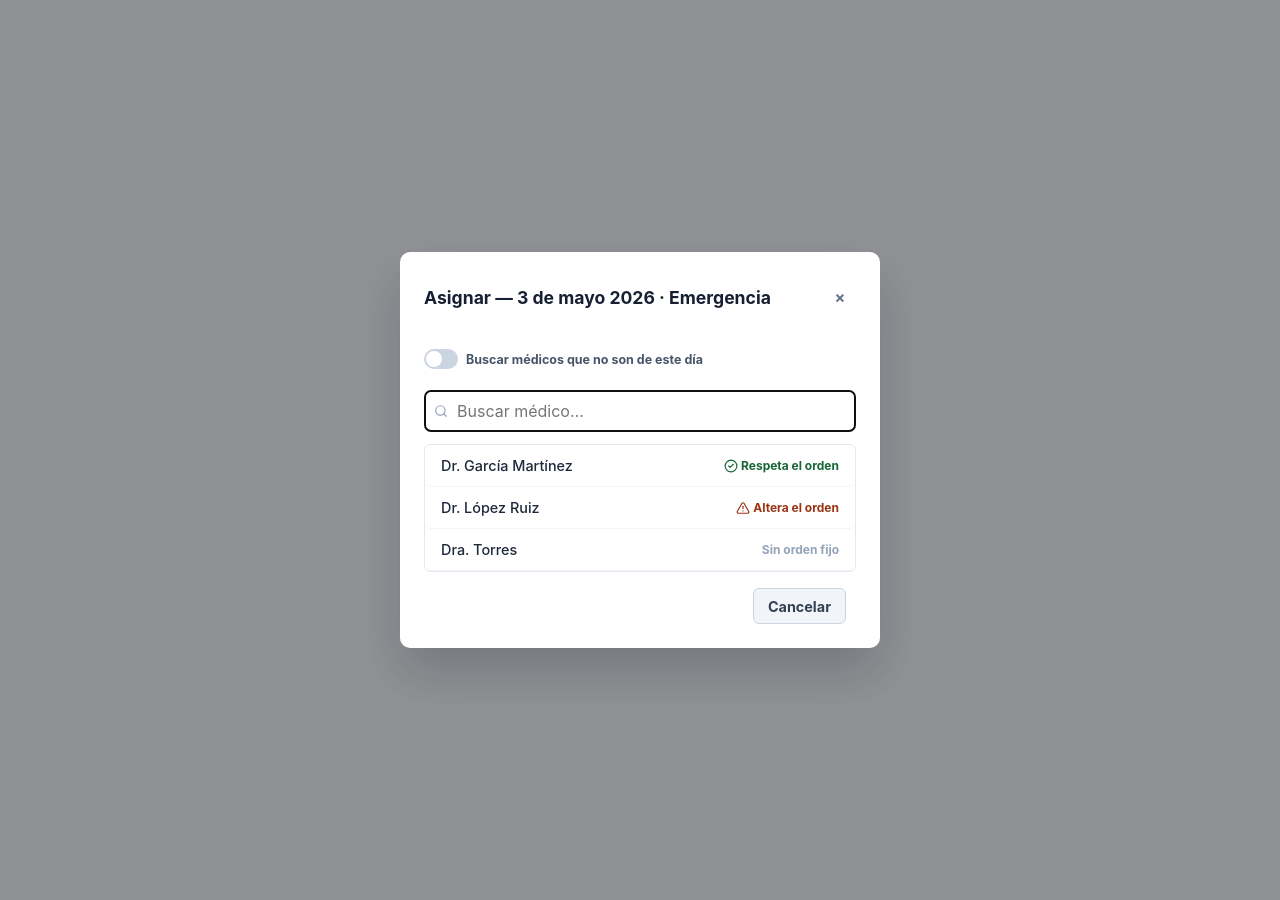
it: AssignDoctorModal › el interruptor de otros días recarga con strict=false y muestra fuera-de-día
Expected: the text "Dr. García Martínez" is shown, [441,457,573,474]
Click the switch labelled "Buscar médicos que no son de este día" at (564, 359), box [424,338,703,380]
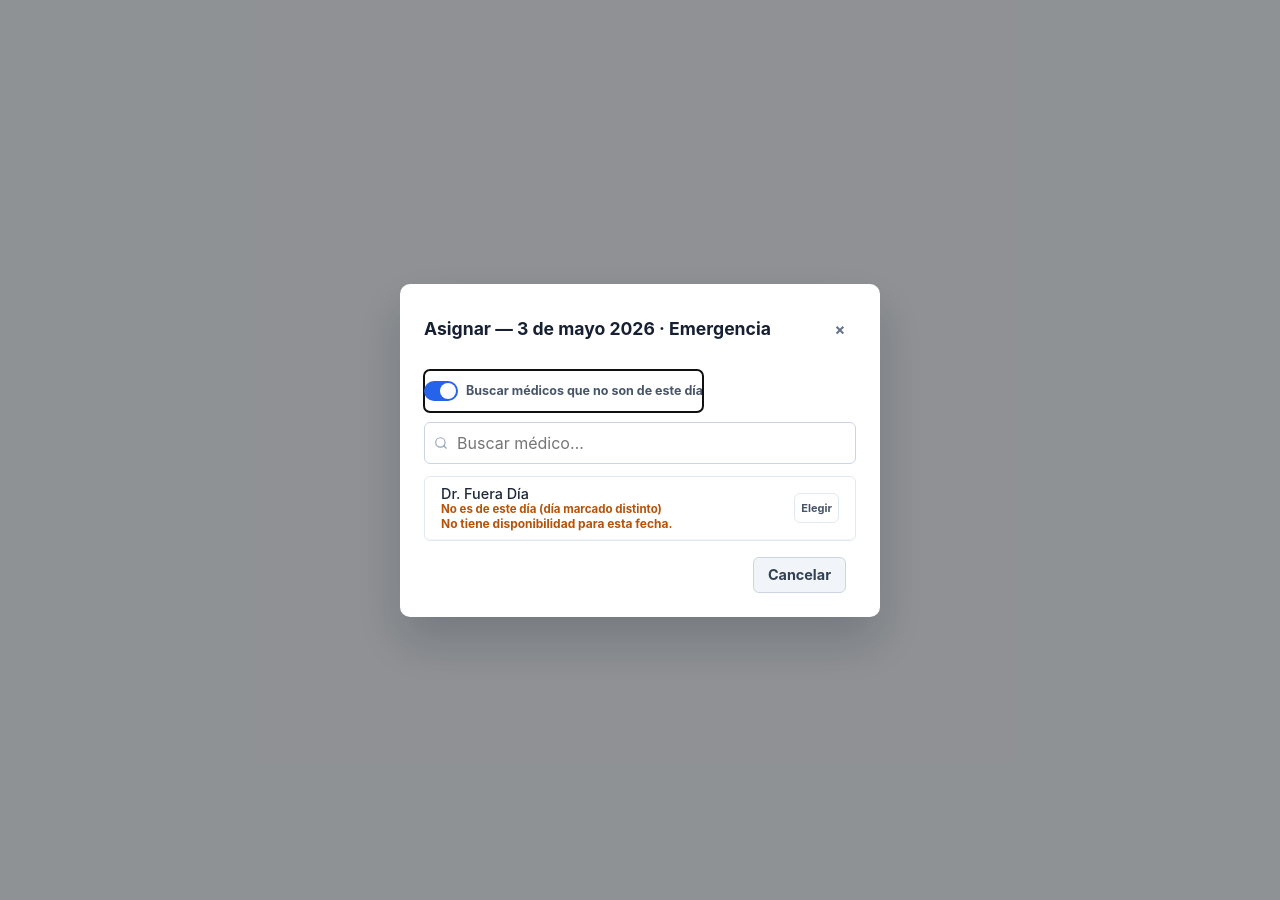
Expected: the text "Dr. Fuera Día" is shown, [441,484,529,502]
Expected: the text "No es de este día (día marcado distinto)" is shown, [441,502,662,516]
